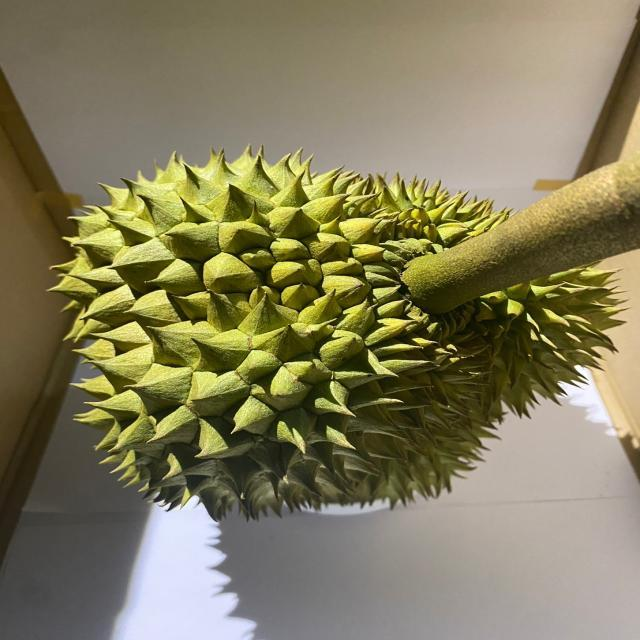immature: (44, 142, 630, 526)
